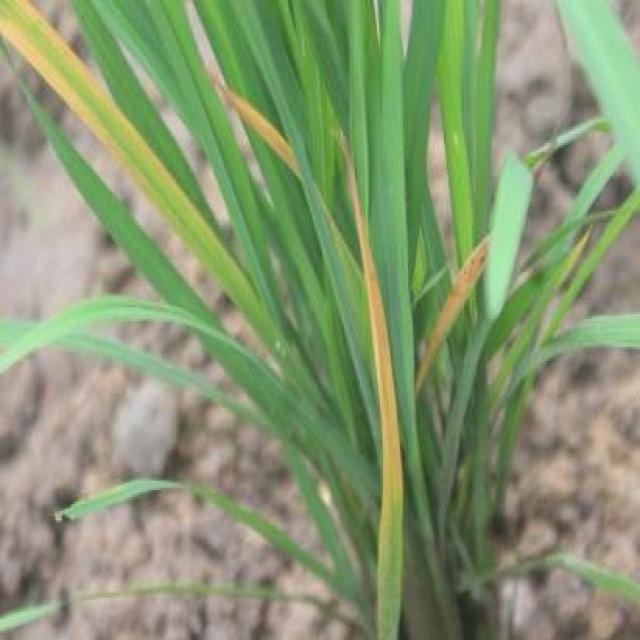Tungro: (5, 0, 207, 237), (334, 138, 420, 536), (427, 211, 488, 396), (213, 59, 302, 181)
